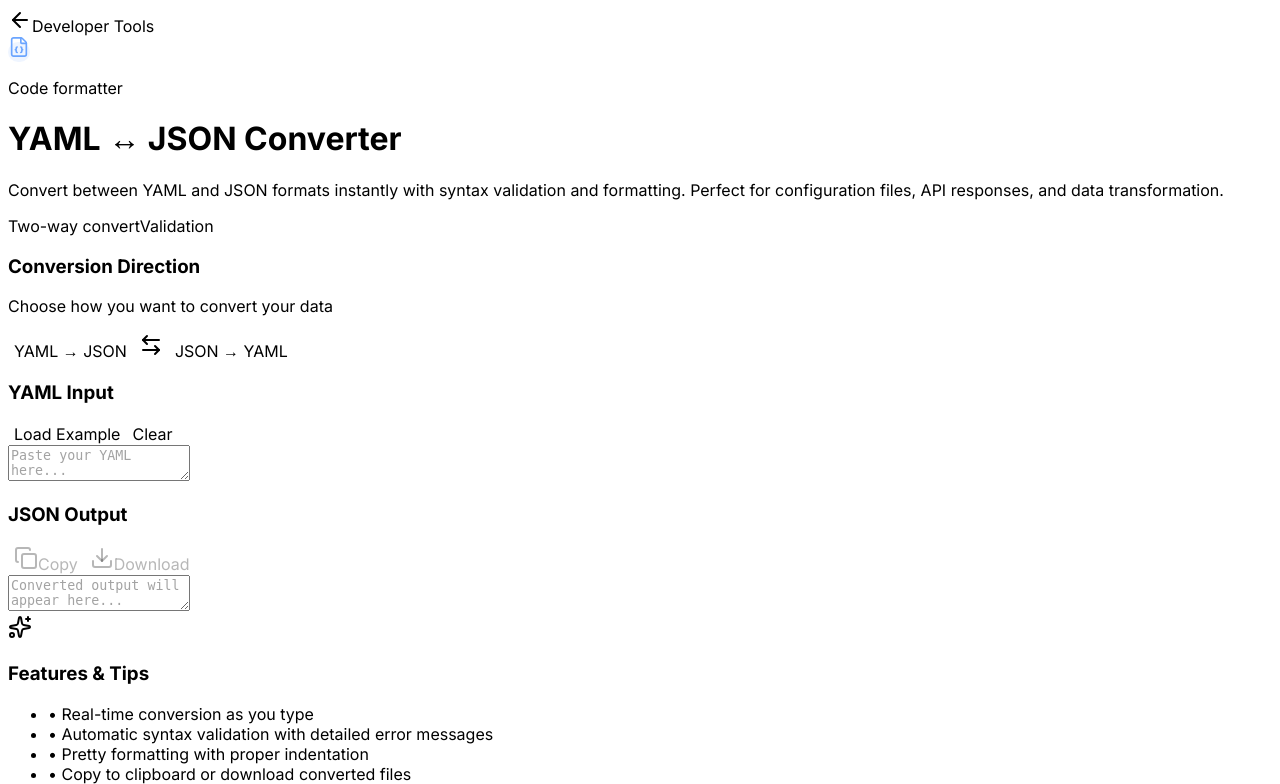
Test case: YAML ↔ JSON Converter Page - Component Tests › JSON to YAML Conversion › should switch to JSON to YAML mode
Step 1. Click the button "JSON → YAML" → (231, 351), box [169, 340, 294, 362]
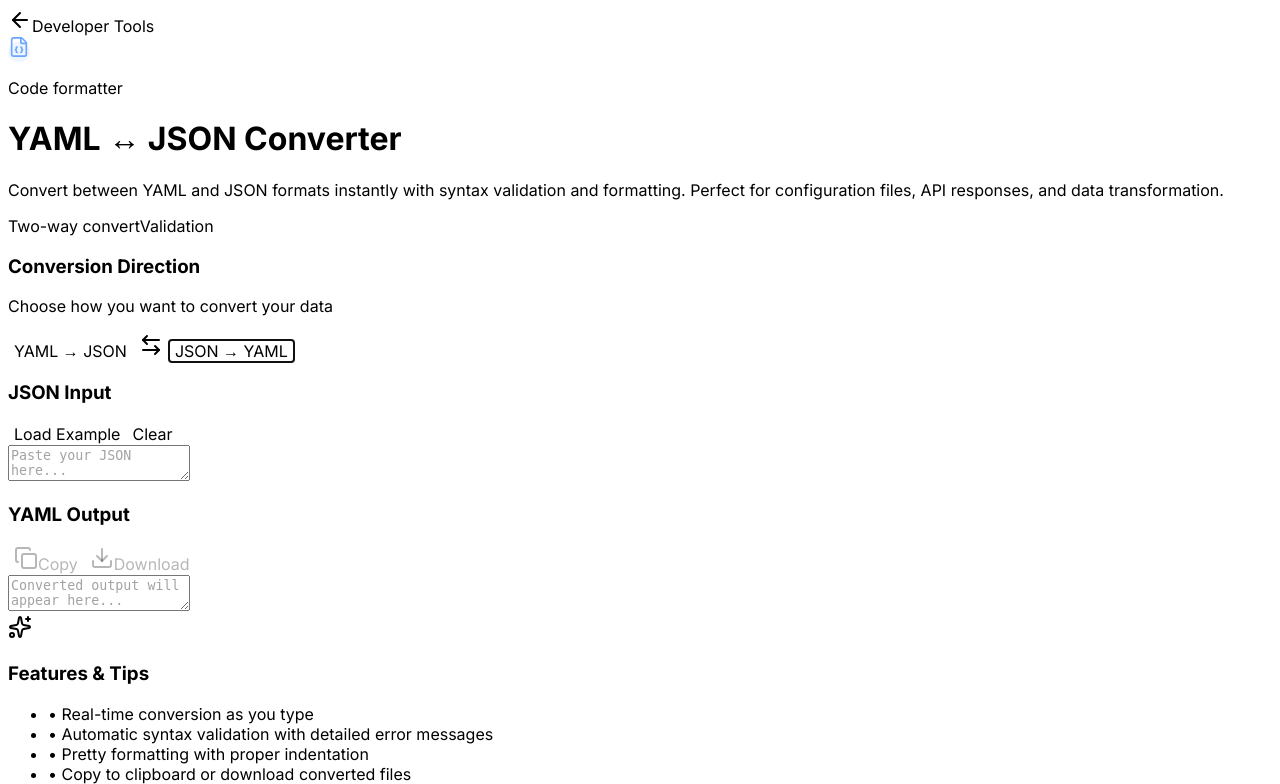
Expected: the heading "JSON Input" is shown, [8, 381, 112, 404]
Expected: the heading "YAML Output" is shown, [8, 504, 130, 526]
